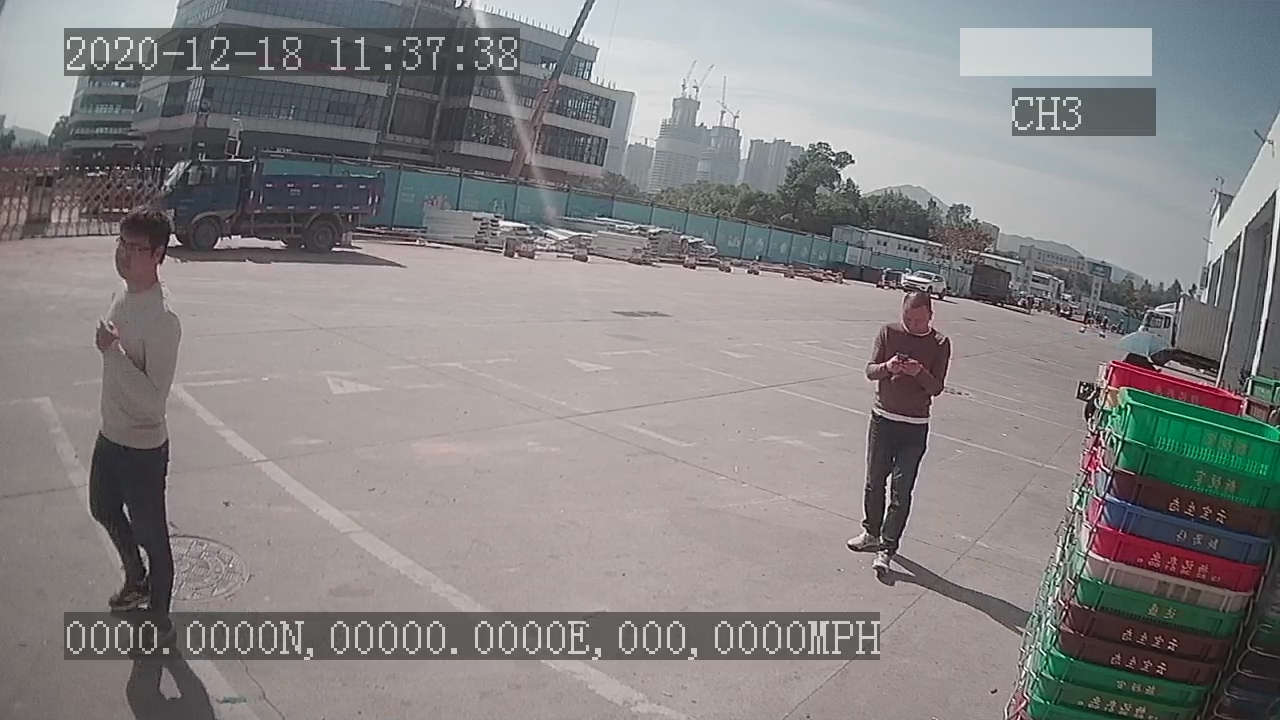person: (838, 289, 957, 573)
